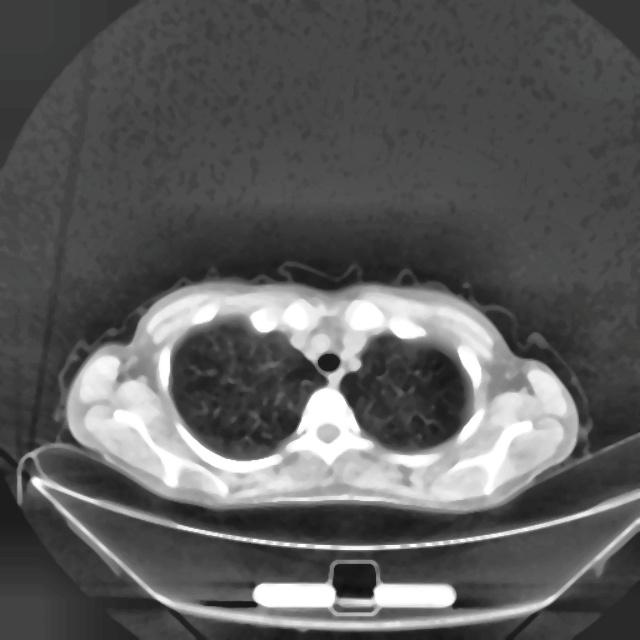covid: (63, 264, 582, 514)
